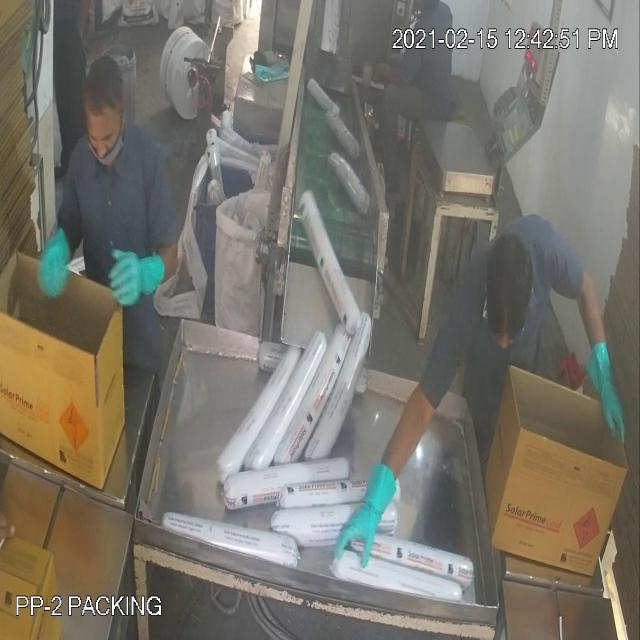gloves: (331, 448, 399, 588), (583, 322, 630, 451), (104, 241, 170, 313), (36, 227, 80, 309)
